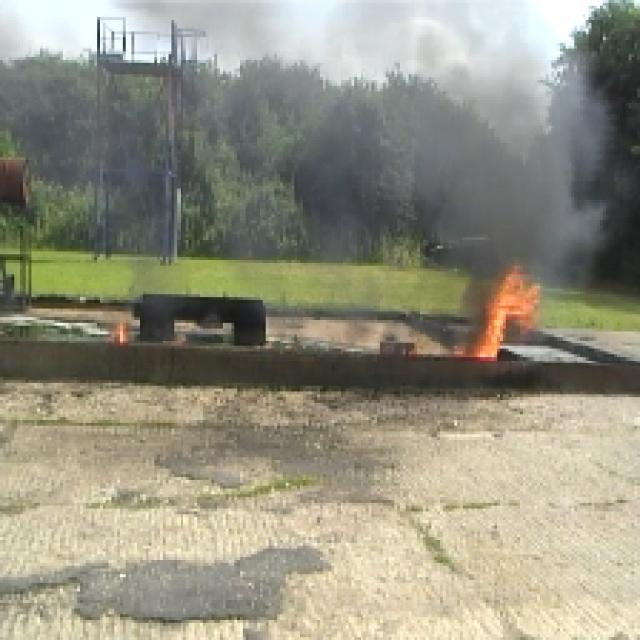smoke: (242, 8, 604, 237)
